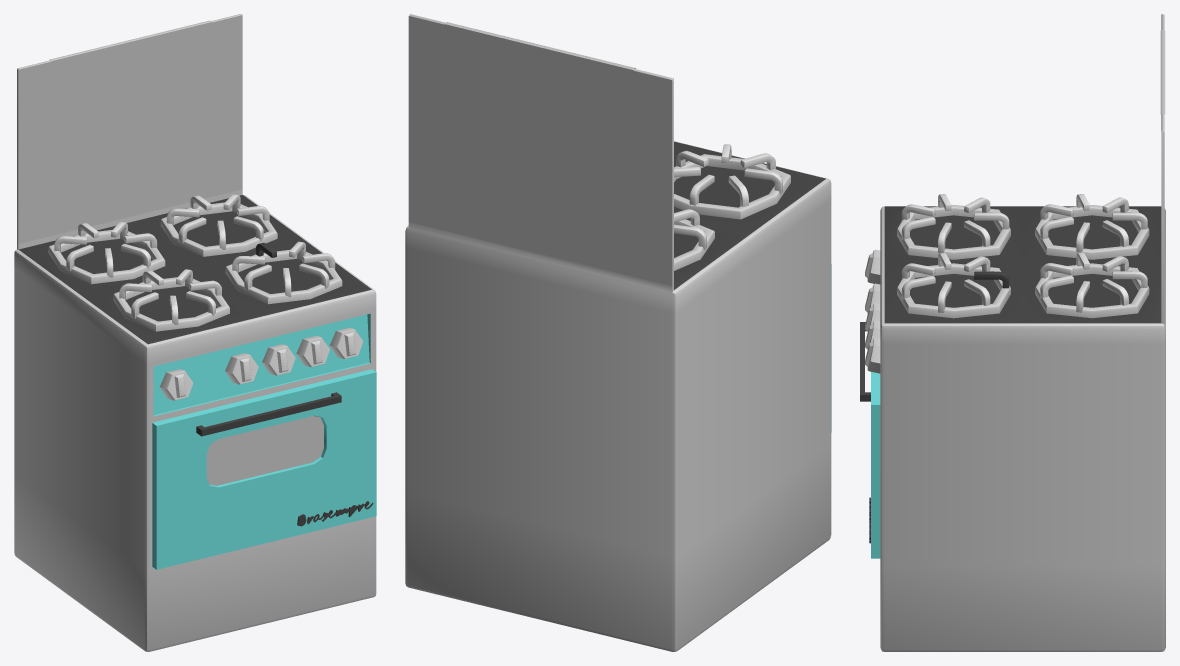
The model's file is Asset007_Fogao.fbx.
The picture shows the model from 3 angles, left to right: view 1: azimuth 30°, elevation 25°; view 2: azimuth 150°, elevation 25°; view 3: azimuth 270°, elevation 25°; orthographic projection. The views are drawn at different scales.
Visible parts, largest first — view 1: Corpo, Portinha, Corpo_1, Portinha_1, Alca, Butao_5, Butao_3, Butao_4, Butao_2, Butao; view 2: Corpo, Corpo_1; view 3: Corpo, Portinha, Corpo_1, Butao, Alca, Butao_5.
Boxes of the visible parts, left/top/right/bottom form: Corpo: left=14, top=14, right=376, bottom=651; Portinha: left=152, top=369, right=376, bottom=569; Corpo_1: left=49, top=20, right=211, bottom=113; Portinha_1: left=206, top=416, right=323, bottom=485; Alca: left=196, top=392, right=341, bottom=436; Butao_5: left=160, top=369, right=193, bottom=400; Butao_3: left=262, top=344, right=295, bottom=375; Butao_4: left=225, top=353, right=258, bottom=384; Butao_2: left=296, top=335, right=329, bottom=367; Butao: left=329, top=327, right=363, bottom=358; Corpo: left=405, top=14, right=831, bottom=651; Corpo_1: left=444, top=22, right=635, bottom=131; Corpo: left=880, top=14, right=1165, bottom=651; Portinha: left=871, top=372, right=880, bottom=558; Corpo_1: left=1160, top=30, right=1165, bottom=114; Butao: left=865, top=338, right=880, bottom=373; Alca: left=860, top=322, right=870, bottom=401; Butao_5: left=865, top=249, right=880, bottom=284.
Bounding box in the file's own units: 121 × 245 × 130.
